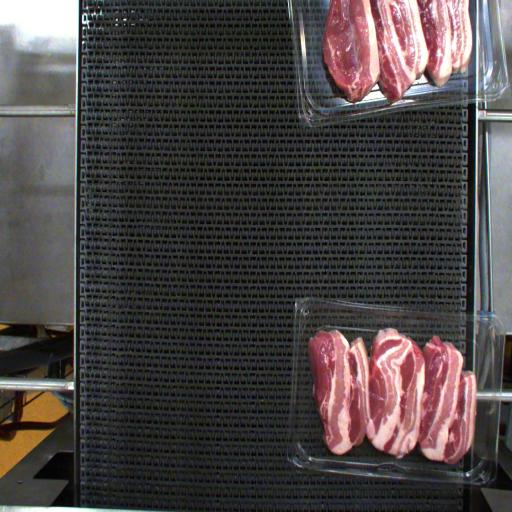wrinkle: (352, 377, 388, 406)
